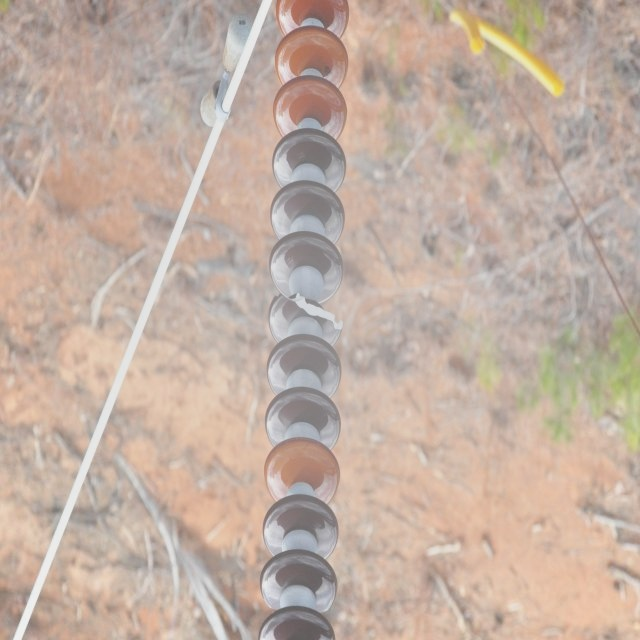broken: (274, 290, 346, 331)
insulator: (257, 0, 350, 639)
